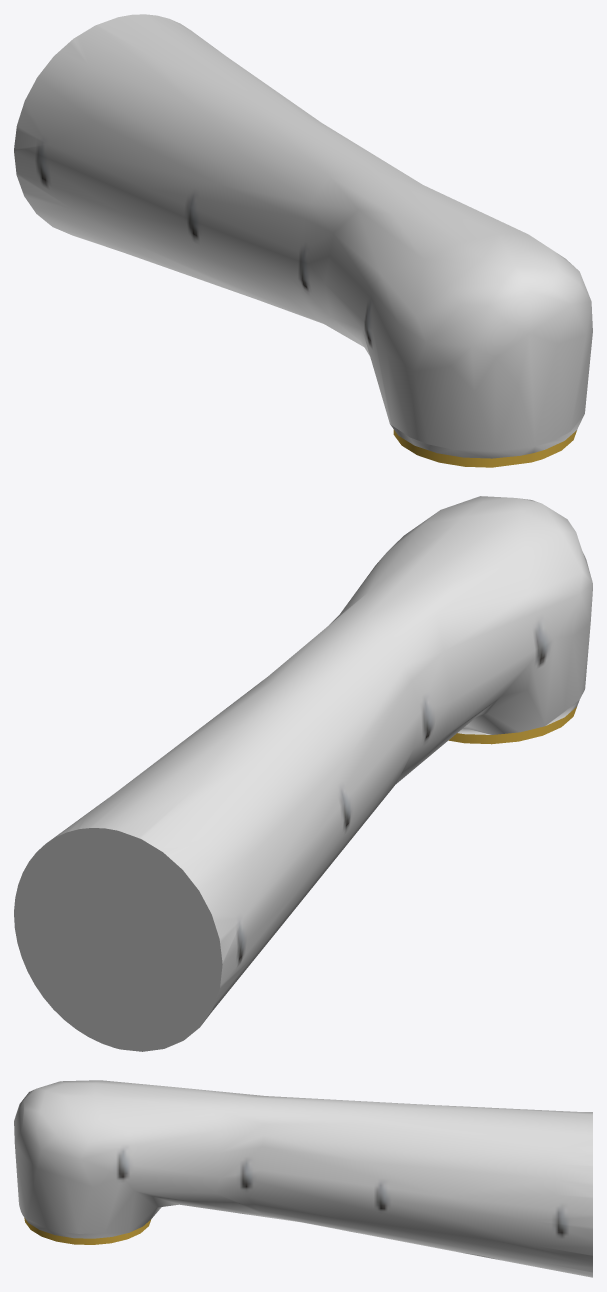
File: link_forearm.glb
The picture shows the model from 3 angles, top to bottom: view 1: azimuth 30°, elevation 25°; view 2: azimuth 150°, elevation 25°; view 3: azimuth 270°, elevation 25°; orthographic projection. The views are drawn at different scales.
Parts seen in each view (by area): view 1: link_forearm.3obj; view 2: link_forearm.3obj; view 3: link_forearm.3obj.
Part boxes in pixels (bbox=[...]): link_forearm.3obj: bbox=[14, 14, 592, 467]; link_forearm.3obj: bbox=[14, 496, 592, 1051]; link_forearm.3obj: bbox=[14, 1080, 592, 1277].
Size of the model in its own units: 0.09 by 0.1082 by 0.3145.
Materials: 1 (1 with a texture image).
